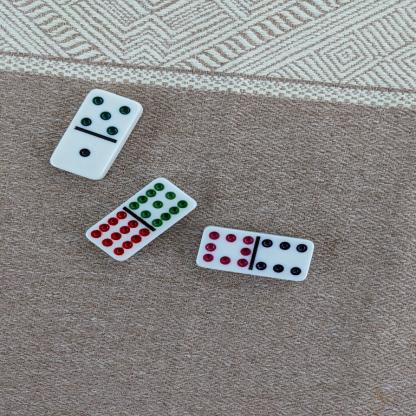pip-1: (49, 133, 113, 179)
pip-11: (127, 176, 196, 228)
pip-12: (84, 209, 149, 260)
pip-5: (78, 89, 141, 135)
pip-6: (254, 237, 313, 281)
pip-8: (195, 224, 254, 271)
